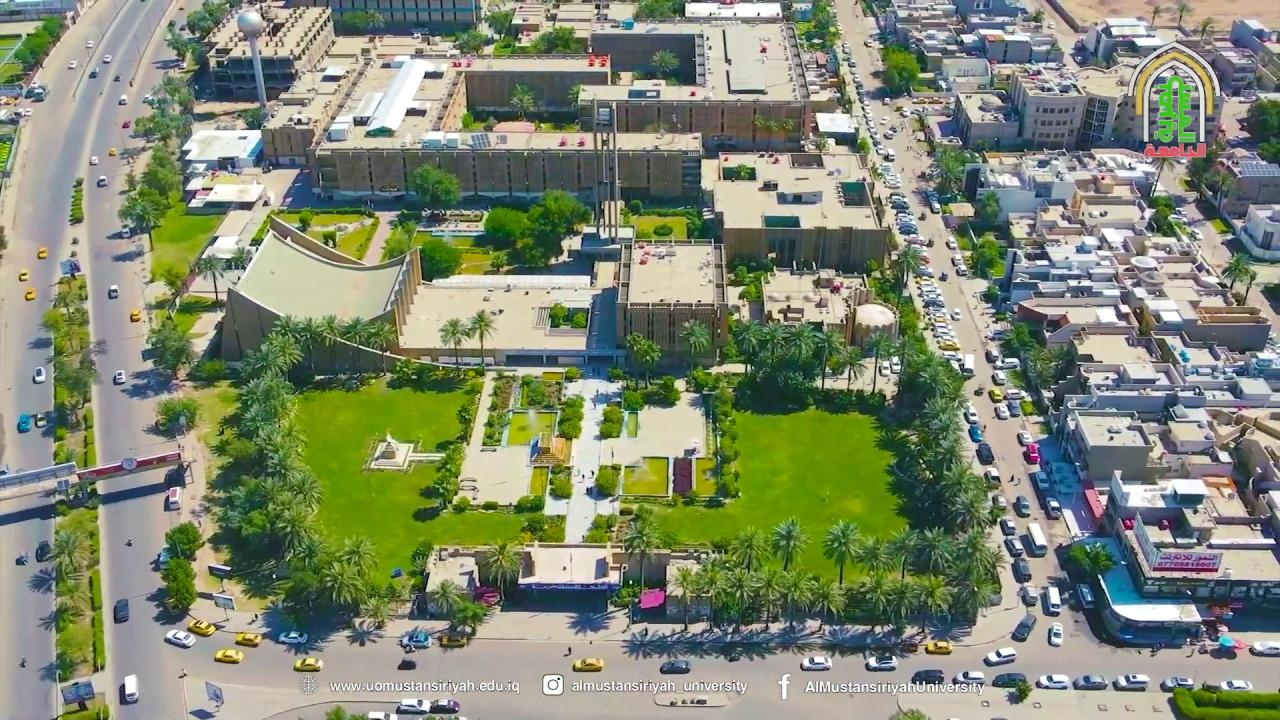car: (1011, 614, 1036, 641), (983, 647, 1017, 666), (1113, 674, 1150, 691), (395, 698, 432, 715), (400, 630, 430, 650), (165, 629, 196, 648), (992, 672, 1027, 688), (910, 668, 944, 684), (1160, 676, 1194, 692), (187, 618, 215, 637), (1035, 674, 1070, 689), (865, 655, 897, 671), (1073, 675, 1107, 690), (1011, 558, 1031, 583), (952, 670, 985, 685), (659, 659, 690, 674), (572, 657, 603, 672), (800, 656, 831, 671), (429, 699, 460, 714), (278, 630, 308, 645), (293, 657, 323, 672), (214, 648, 244, 663), (1250, 641, 1280, 656), (165, 486, 182, 511), (438, 633, 467, 647), (925, 640, 952, 655), (1004, 536, 1024, 556), (235, 632, 261, 647), (112, 599, 128, 623), (1048, 622, 1064, 646), (1219, 680, 1253, 691), (1046, 498, 1062, 519), (208, 564, 232, 578), (999, 517, 1016, 535), (36, 541, 50, 562), (16, 413, 30, 433), (367, 711, 397, 719), (992, 494, 1007, 510), (1017, 431, 1032, 446), (1036, 472, 1049, 489), (33, 366, 45, 383), (889, 356, 901, 373), (112, 370, 125, 385), (34, 412, 47, 427), (107, 285, 119, 298), (129, 309, 141, 322), (390, 568, 403, 579), (25, 287, 35, 301), (96, 175, 107, 187), (18, 269, 28, 282), (37, 246, 47, 258), (120, 225, 129, 238), (103, 53, 112, 63), (119, 94, 127, 105), (67, 60, 76, 69), (89, 156, 98, 165), (85, 40, 95, 48), (122, 120, 131, 128), (108, 148, 116, 156), (114, 74, 122, 81)
fountain: (621, 456, 671, 501), (506, 409, 556, 445), (411, 229, 484, 247), (694, 454, 722, 497), (526, 463, 548, 497), (621, 408, 644, 438)
tree: (203, 314, 397, 634), (665, 516, 1004, 639), (482, 187, 593, 270), (26, 564, 92, 632), (232, 372, 298, 437), (329, 533, 379, 614), (853, 534, 894, 632), (621, 504, 664, 595), (427, 578, 491, 636), (118, 185, 173, 251), (145, 309, 194, 379), (481, 536, 525, 603), (692, 555, 731, 630), (719, 566, 760, 635), (773, 567, 816, 632), (908, 572, 952, 635), (820, 518, 860, 586), (41, 528, 94, 577), (137, 144, 179, 202), (410, 163, 461, 210), (769, 516, 811, 572), (666, 564, 701, 631), (928, 143, 972, 193), (133, 107, 189, 146), (431, 441, 465, 505), (726, 524, 770, 573), (882, 525, 921, 580), (879, 43, 920, 95), (160, 557, 198, 613), (809, 576, 846, 632), (418, 236, 463, 281), (514, 226, 562, 268), (1067, 540, 1117, 580), (624, 331, 661, 385), (436, 316, 471, 373), (337, 534, 378, 582), (864, 330, 894, 394), (852, 533, 892, 580), (362, 320, 396, 375), (678, 318, 711, 374), (193, 250, 225, 307), (153, 394, 201, 432), (482, 206, 527, 246), (163, 520, 206, 561), (751, 112, 794, 153), (828, 342, 865, 388), (467, 309, 497, 365), (449, 597, 490, 635), (1246, 96, 1279, 143), (314, 313, 342, 368), (428, 577, 463, 615), (973, 231, 1001, 278), (556, 415, 582, 464), (161, 265, 188, 312), (164, 19, 194, 61), (894, 243, 922, 286), (1220, 250, 1249, 291), (378, 226, 411, 262), (482, 7, 514, 40), (434, 172, 461, 211), (1209, 169, 1233, 212), (362, 593, 391, 628), (509, 82, 535, 121), (452, 29, 486, 57), (650, 48, 680, 79), (599, 404, 625, 439), (409, 538, 433, 575), (632, 0, 678, 19), (889, 698, 930, 719), (656, 373, 681, 405), (594, 465, 618, 496), (980, 188, 1001, 222), (68, 178, 83, 223), (1240, 267, 1258, 304), (228, 244, 249, 269), (548, 302, 567, 327), (1196, 16, 1214, 41), (856, 135, 871, 165), (296, 207, 314, 232), (779, 117, 794, 144)
